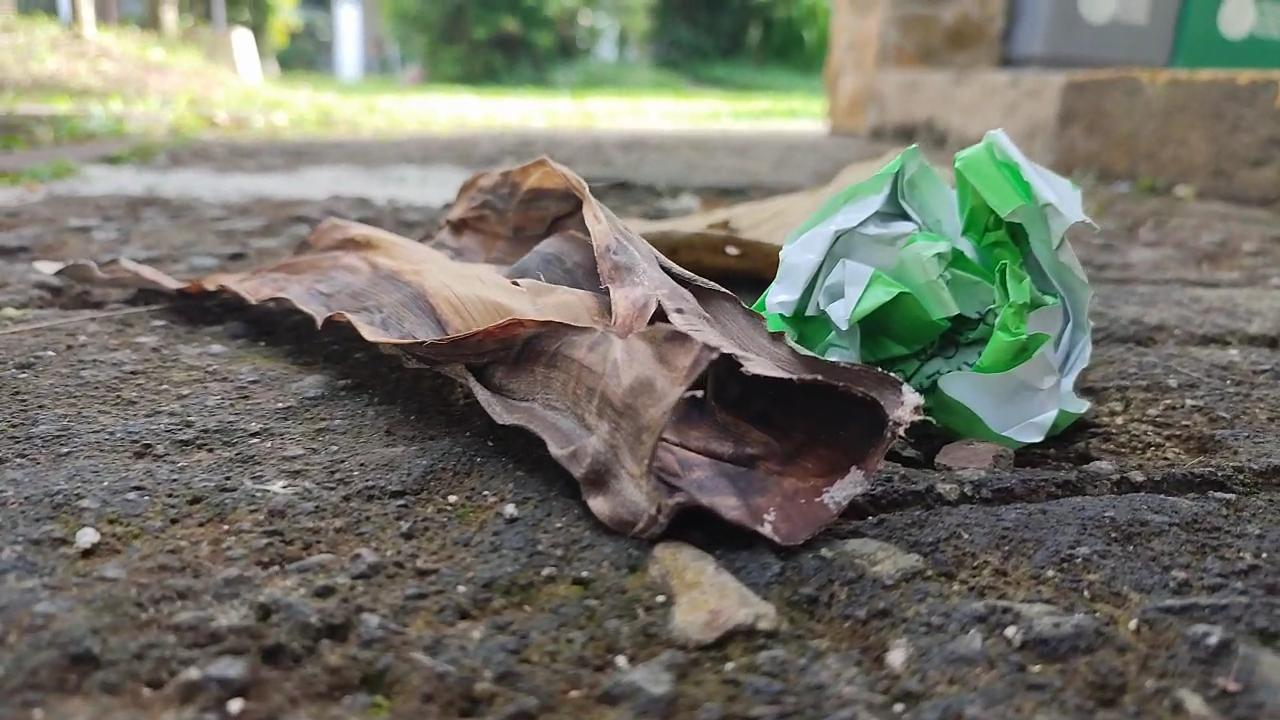Paper: (741, 124, 1110, 448)
